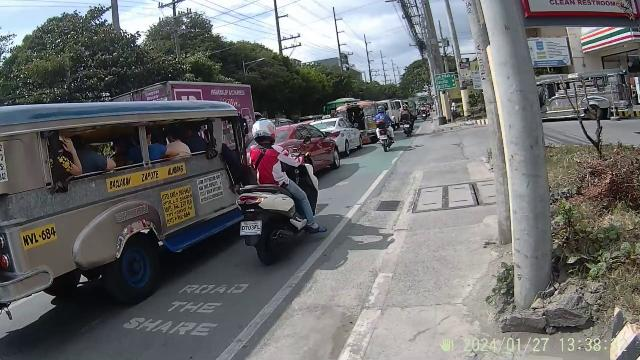utility_post: (477, 1, 571, 326), (328, 3, 348, 73), (378, 56, 398, 84)
